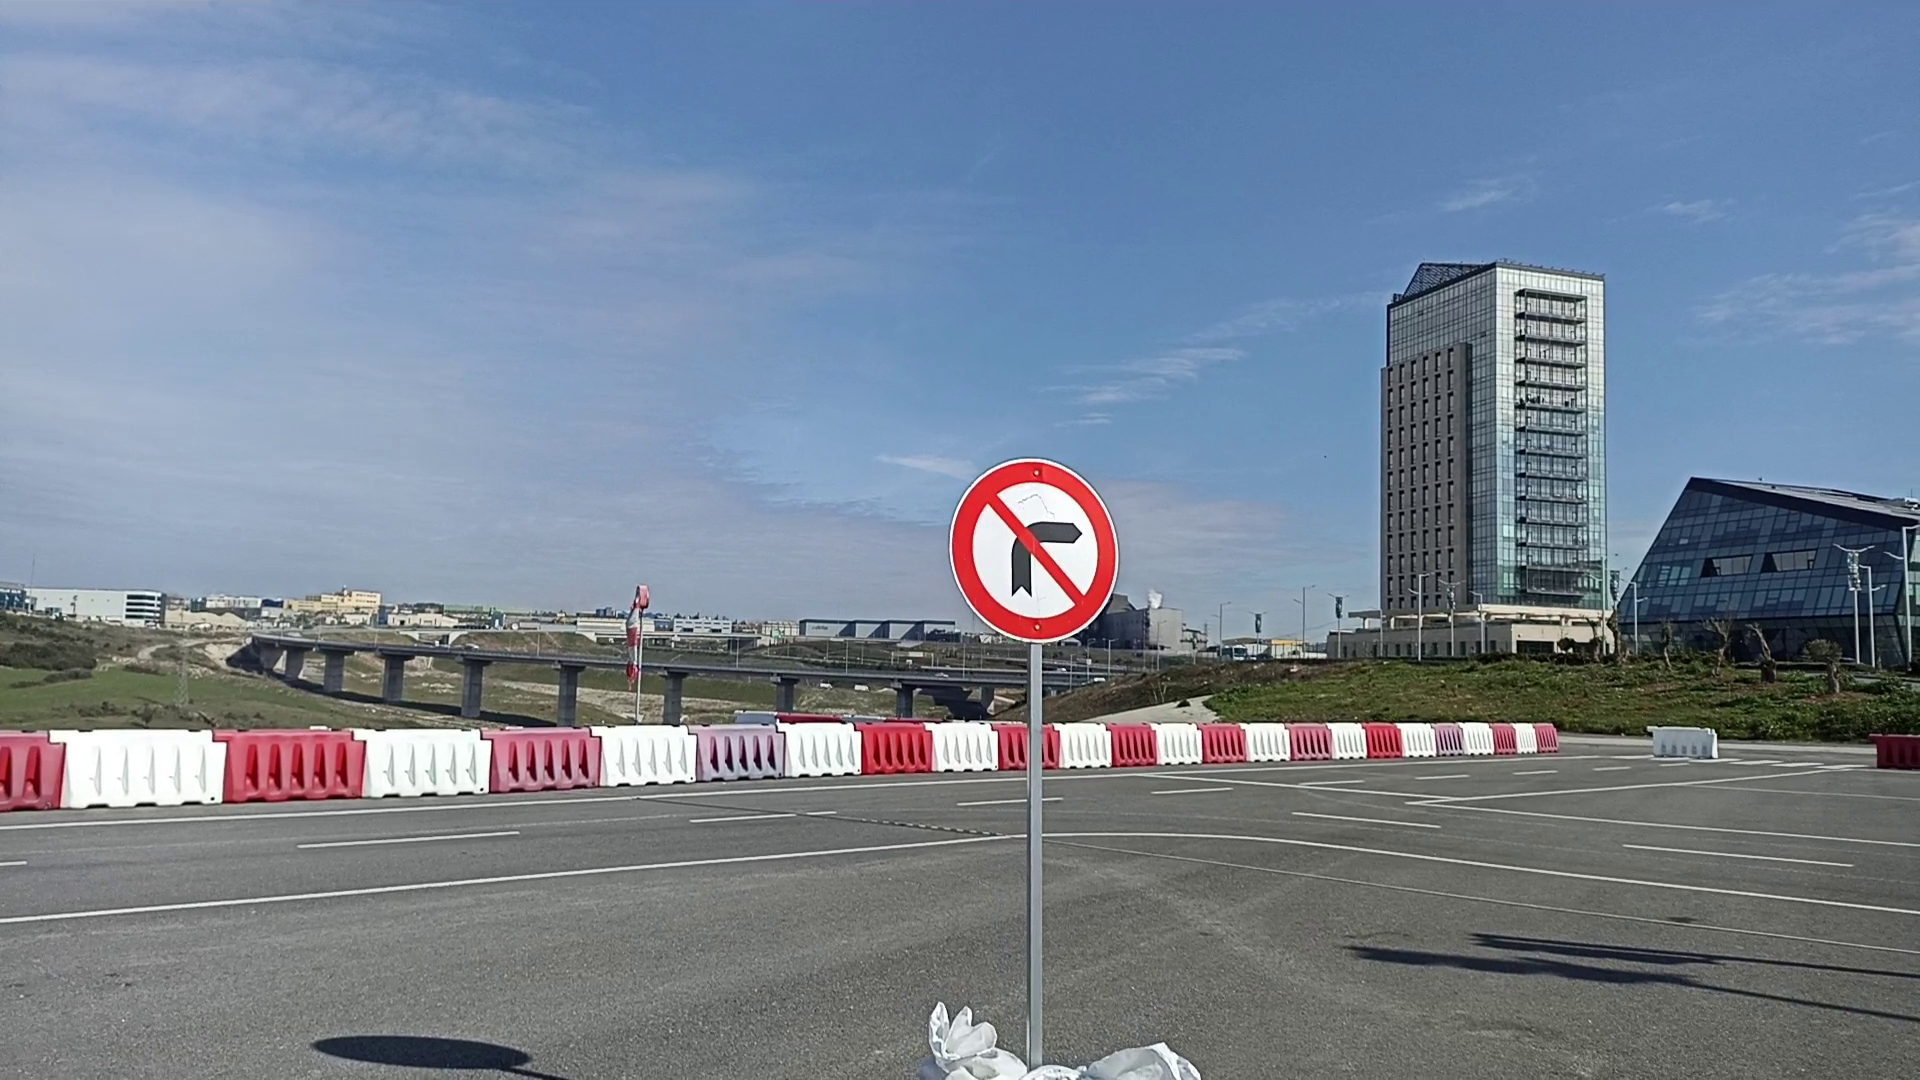noleftturn: (945, 455, 1124, 647)
